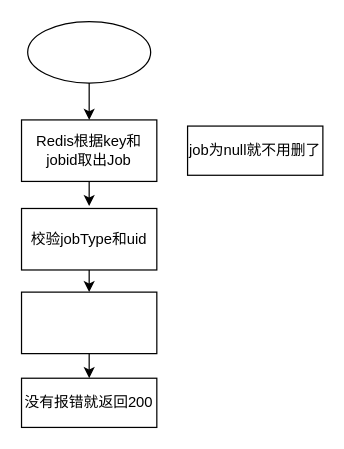
Some shapes in this 344 by 449 pixel diagram are drawn without their labels. Here are the shapes that lost their labels. From the top down, the centre of each, then its label:
point 88,51: Sass下发请求
point 88,322: 根据key和jobId从Redis的Task和Result表中删除
